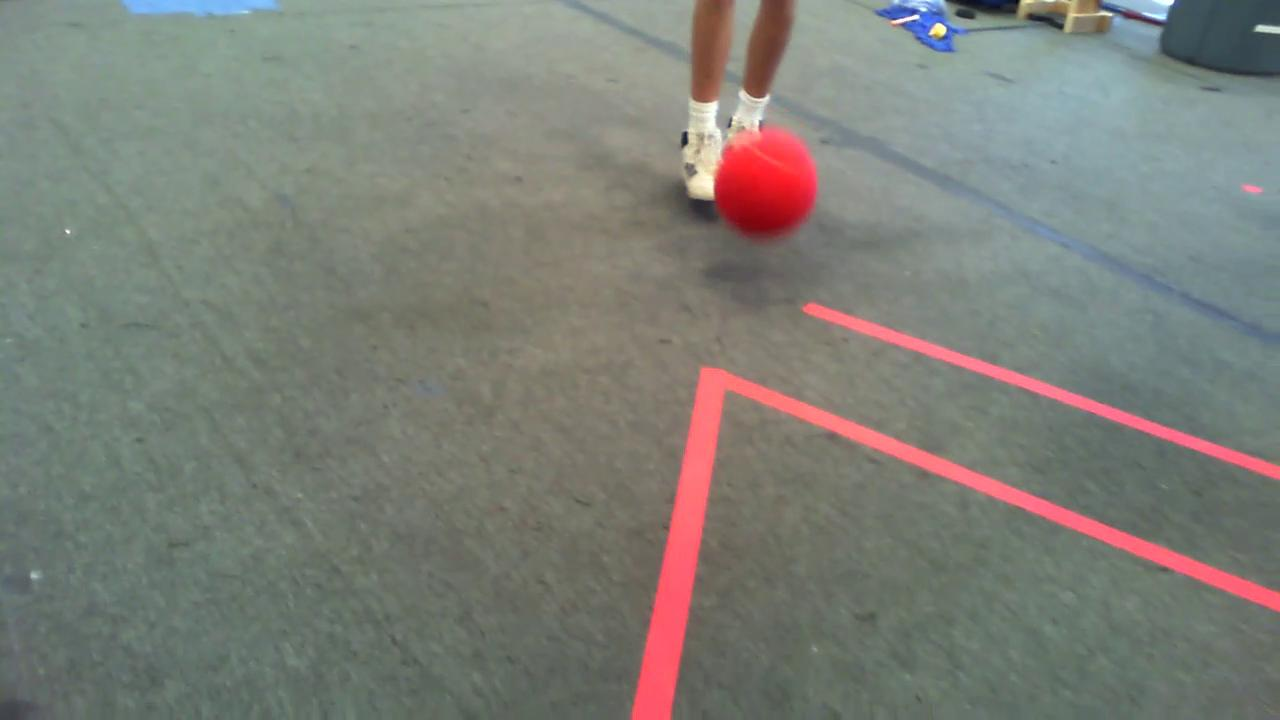Red_Ball: (716, 131, 814, 235)
